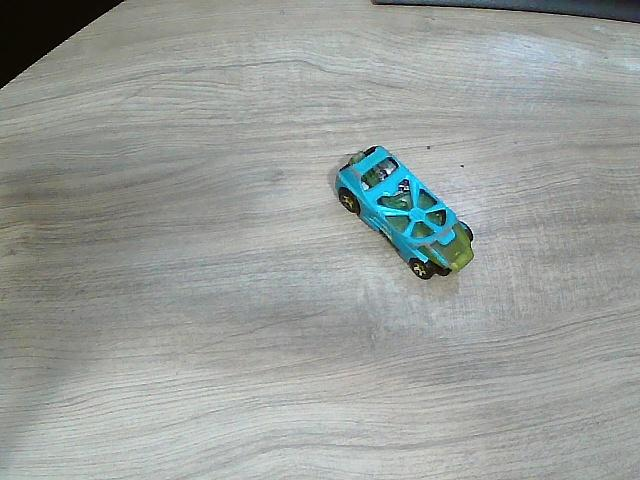Carro: (331, 146, 474, 281)
